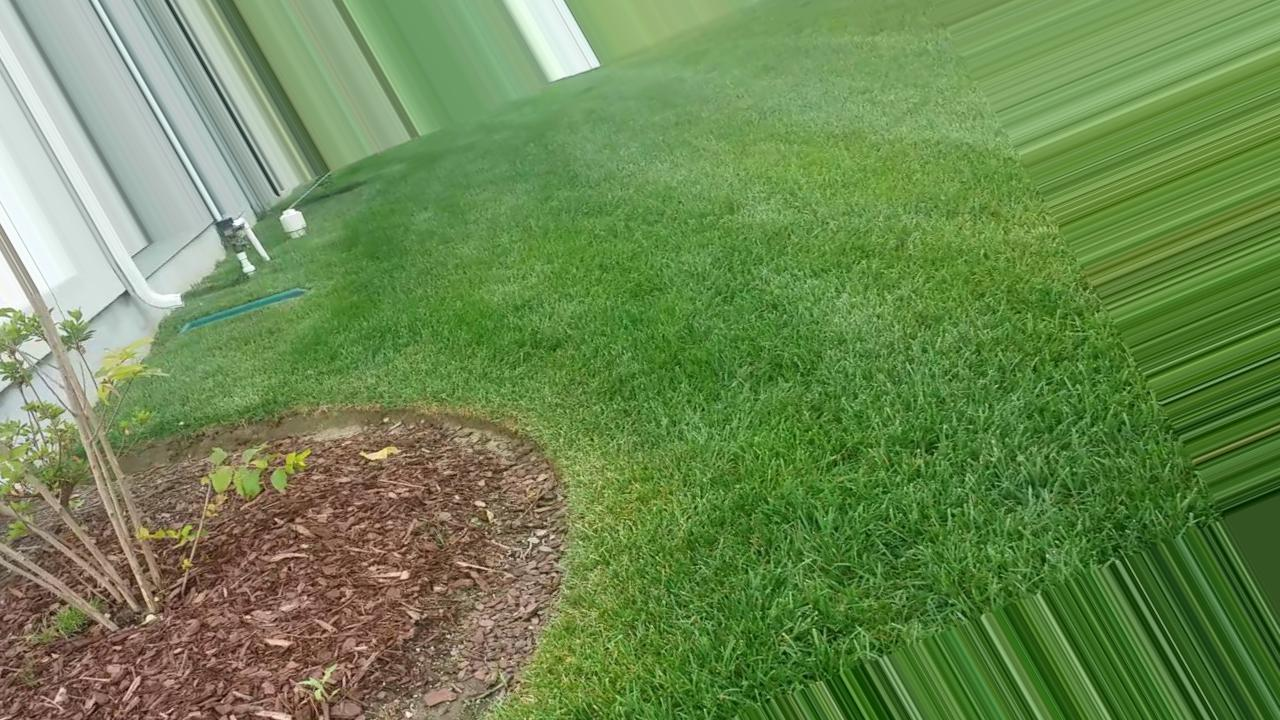patch: (223, 505, 496, 679), (54, 655, 202, 703)
